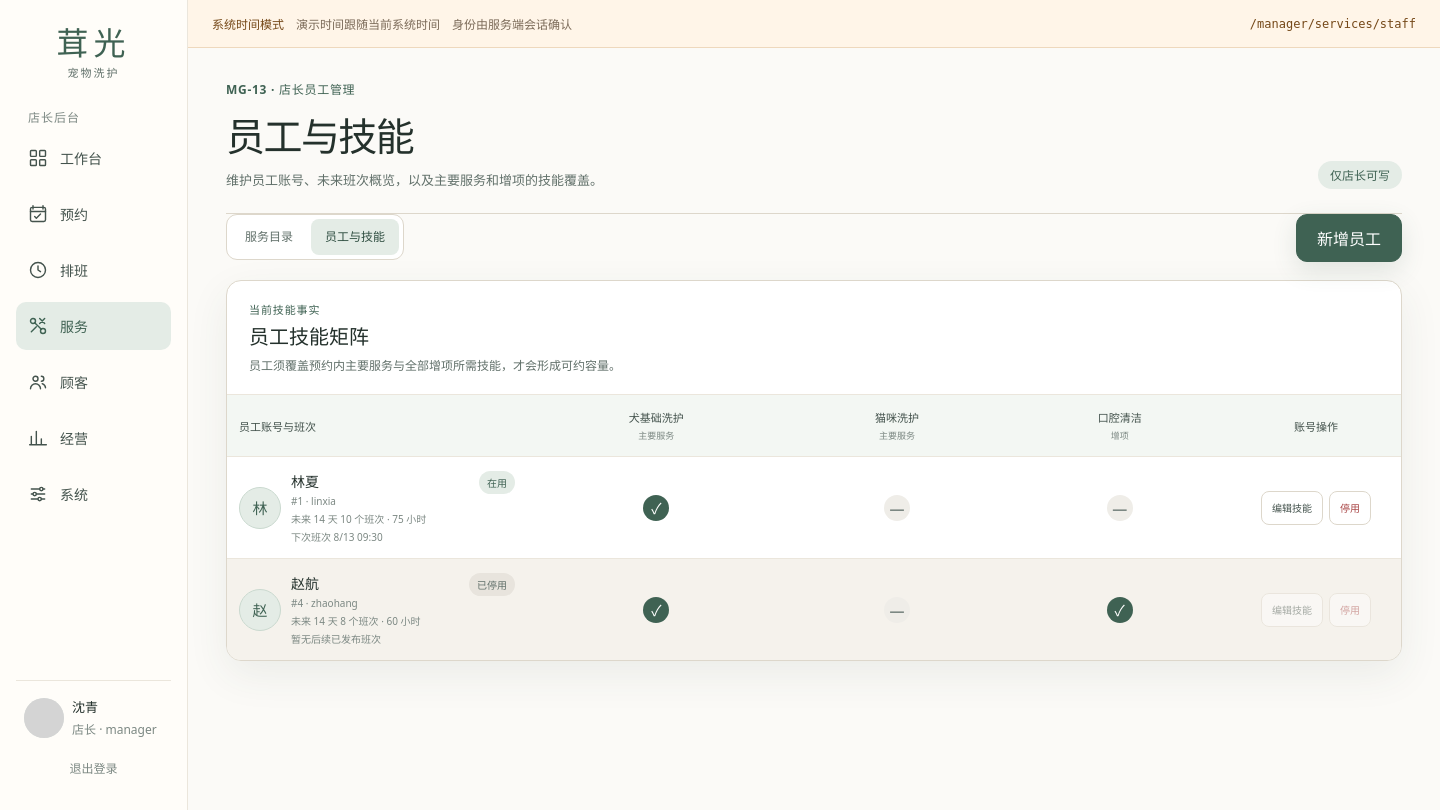
Test case: MG-13 员工账号与员工技能页面 › 可用键盘聚焦员工技能选项并保存对主要服务和增项的技能覆盖
This screenshot has width=1440, height=810.
What coordinates should you click on to do the following:
click the button with aria-label "编辑林夏技能"
I would click on:
 (1292, 508)
Its box is x1=1261 y1=490 x2=1323 y2=524.
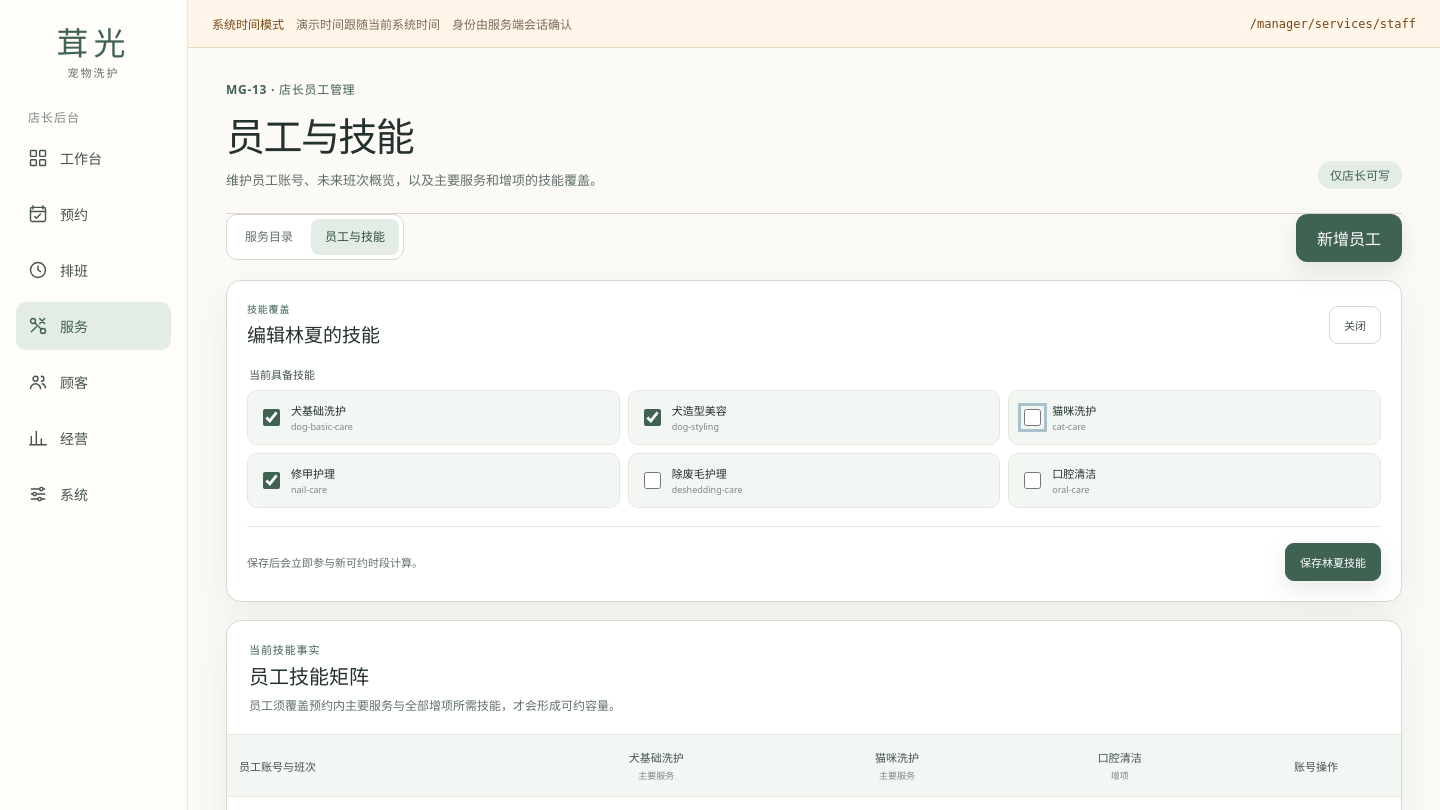
expect the heading "编辑林夏的技能" is shown: met, box x1=247 y1=320 x2=380 y2=348
What coordinates should you click on to do the following:
click the checkbox labelled "猫咪洗护 cat-care"
I would click on:
 (1033, 418)
Its box is x1=1024 y1=409 x2=1041 y2=426.
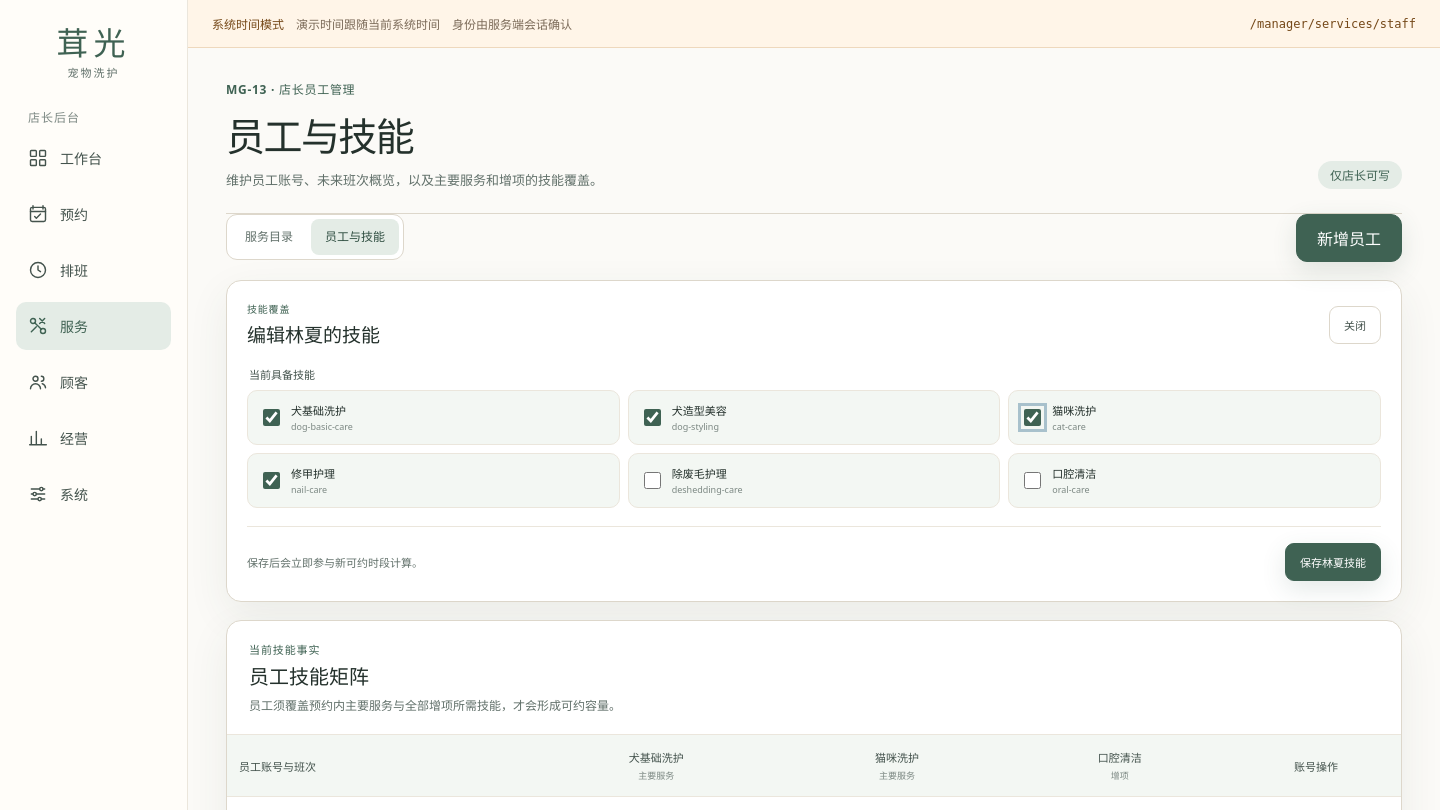
What coordinates should you click on to do the following:
click the checkbox labelled "犬造型美容 dog-styling"
I would click on:
 (652, 418)
Its box is x1=644 y1=409 x2=661 y2=426.
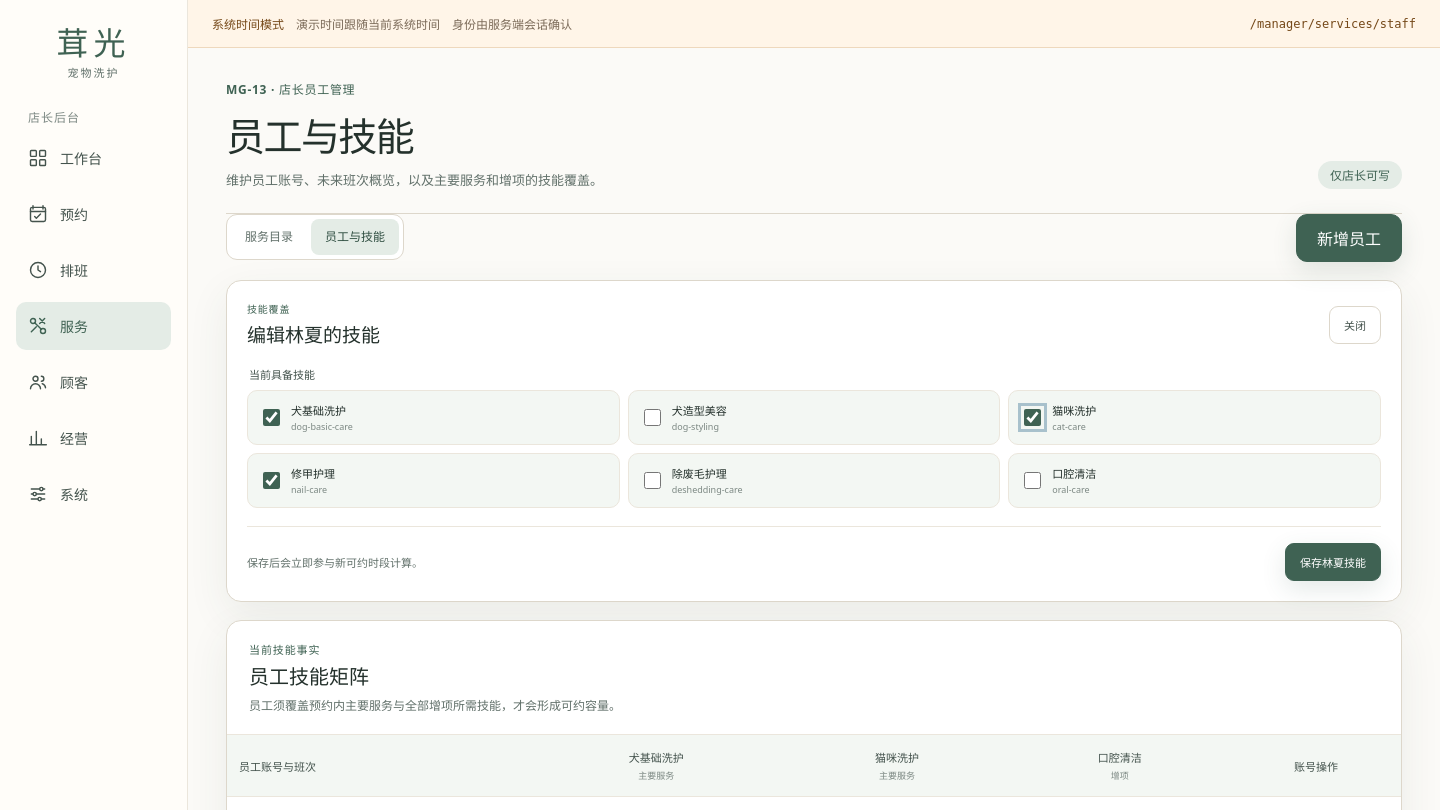
What coordinates should you click on to do the following:
click the button "保存林夏技能"
I would click on:
 (1333, 562)
Its box is x1=1285 y1=543 x2=1381 y2=581.
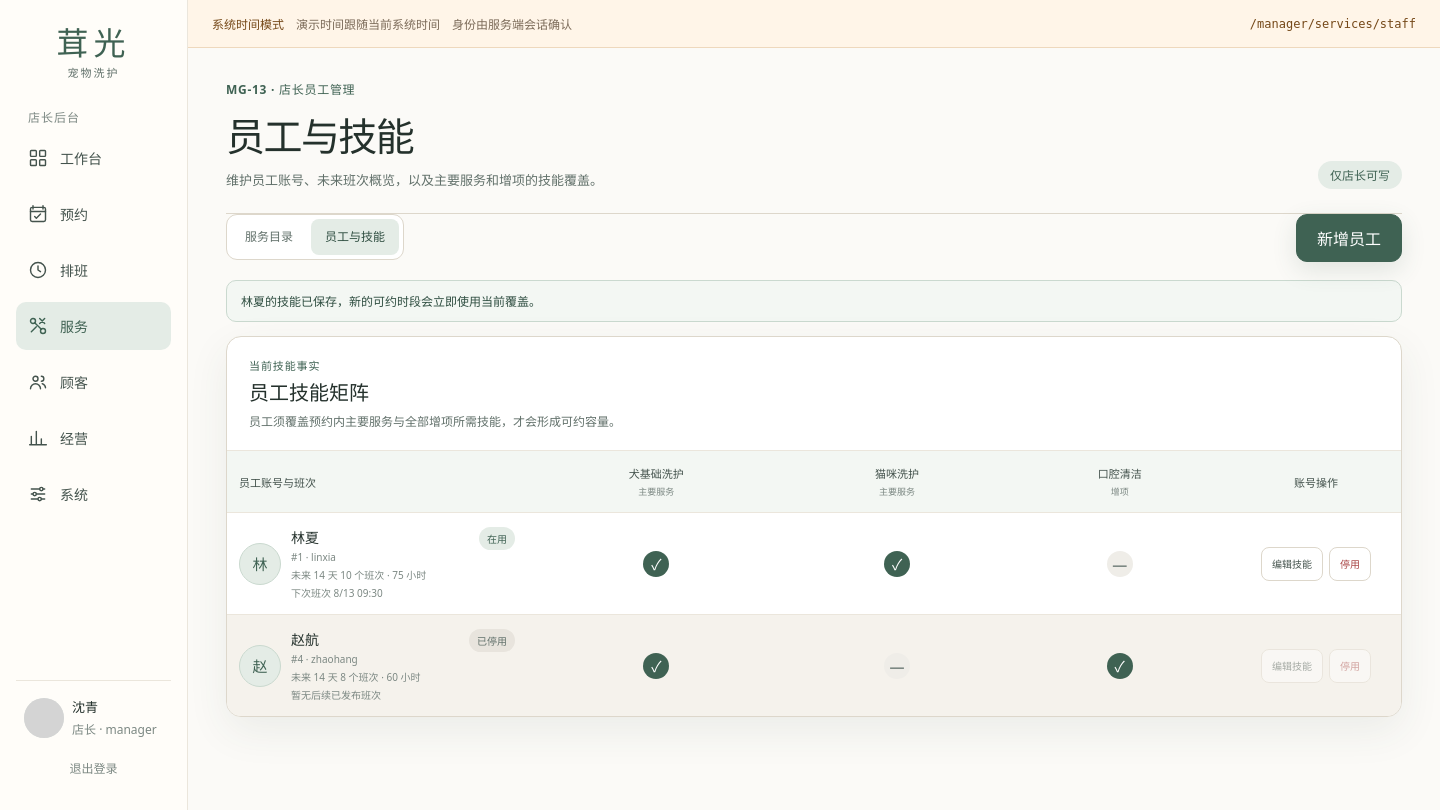
expect the text "林夏的技能已保存，新的可约时段会立即使用当前覆盖。" is shown: met, box x1=226 y1=280 x2=1402 y2=322
expect the text named "林夏具备猫咪洗护所需全部技能" is shown: met, box x1=884 y1=550 x2=910 y2=576
